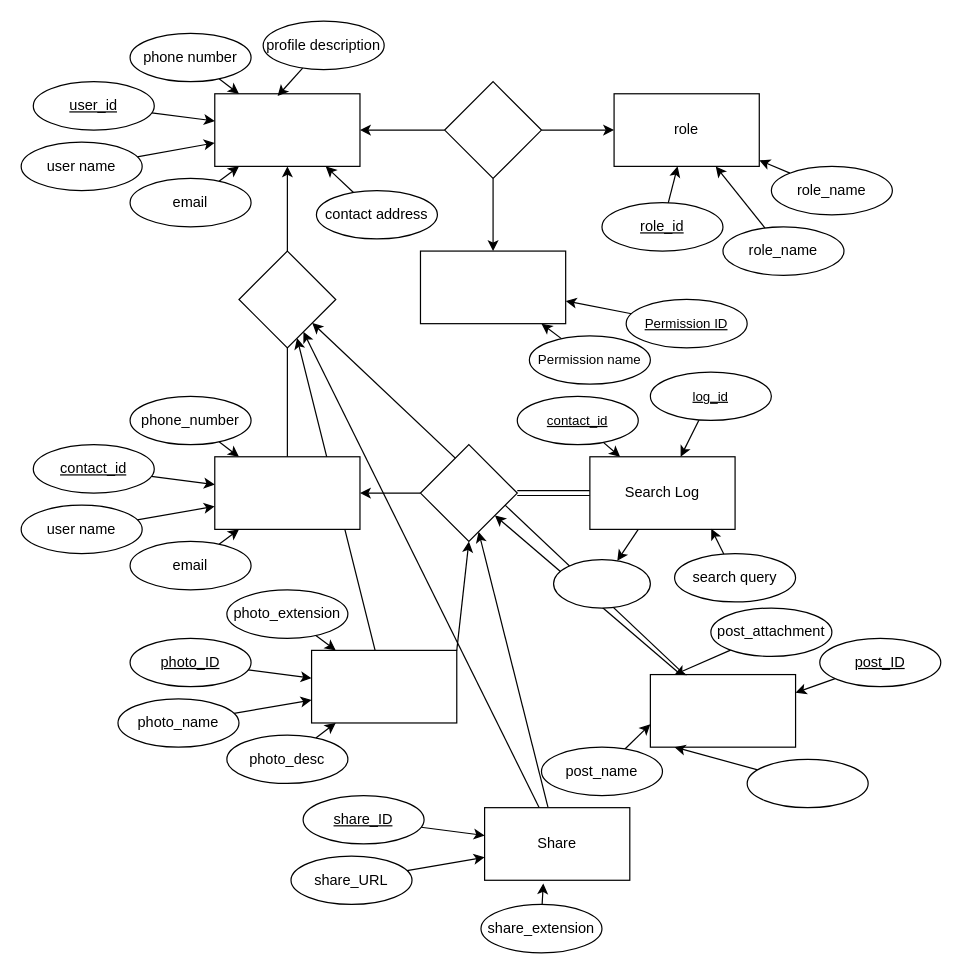
Image size: 962x974. Some labels were removed from this diagram. The shapes that lost their labels are listed below. From the top down, each one's centre as x and y in pixels, then its label:
At pixel 287 129: "User".
At pixel 492 129: "has".
At pixel 287 299: "maintains".
At pixel 492 287: "permissions".
At pixel 287 492: "Friends".
At pixel 468 492: "stores".
At pixel 601 583: "search time".
At pixel 383 686: "Photo".
At pixel 722 710: "Post".
At pixel 807 783: "post_desc".
